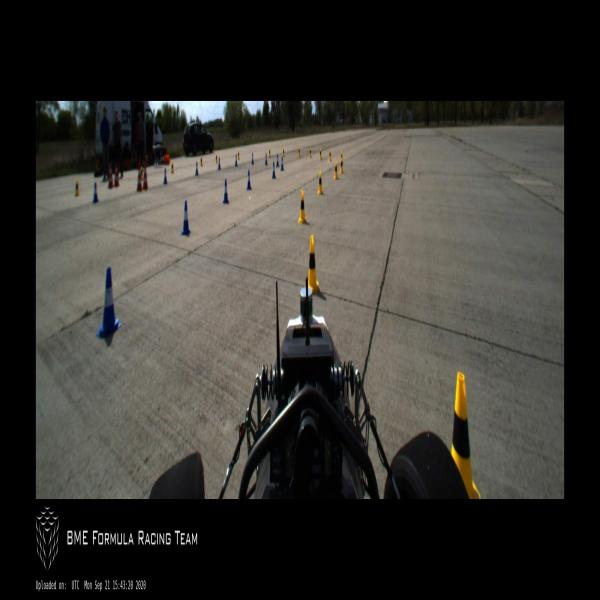blue_cone: (97, 268, 121, 340), (182, 201, 190, 235), (223, 179, 229, 203), (92, 183, 99, 202), (246, 170, 251, 190), (163, 169, 168, 184), (272, 161, 276, 179), (234, 153, 238, 166), (281, 156, 284, 171), (264, 153, 268, 164), (276, 154, 279, 167), (195, 162, 198, 175), (251, 153, 254, 164), (218, 157, 220, 170)
large_orange_cone: (113, 162, 120, 188), (136, 161, 142, 191), (108, 162, 114, 188), (143, 161, 148, 190)
yellow_cone: (450, 372, 481, 498), (307, 235, 319, 294), (298, 190, 308, 224), (318, 170, 324, 195), (333, 160, 339, 179), (74, 179, 80, 197), (339, 158, 344, 174), (140, 165, 143, 181), (340, 150, 343, 163), (328, 149, 331, 162), (319, 148, 322, 160), (171, 162, 174, 174), (309, 147, 312, 158), (200, 157, 203, 167), (268, 148, 271, 158), (282, 148, 285, 157), (237, 152, 240, 160), (298, 147, 300, 158), (216, 154, 218, 164)
